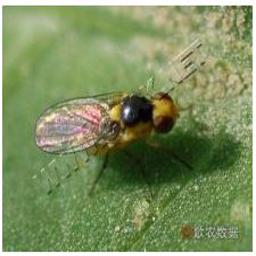liriomyza: (32, 88, 193, 190)
